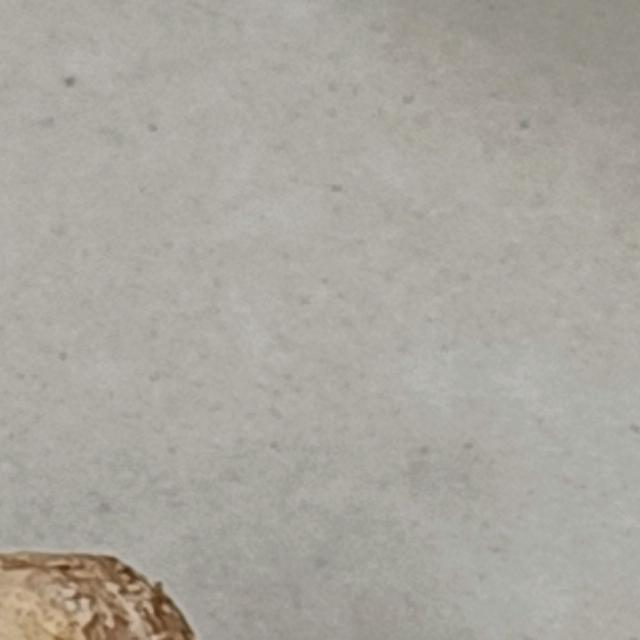ginger: (0, 452, 640, 640)
